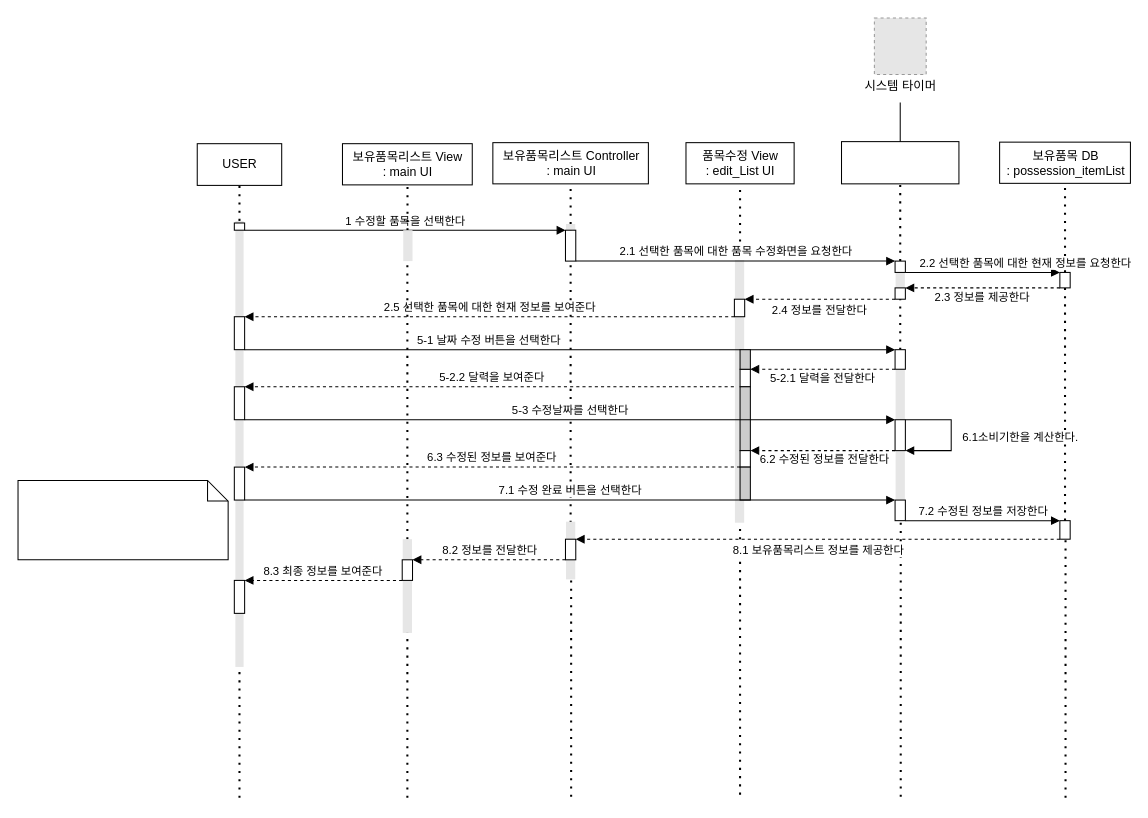
The diagram is 1148 pixels wide and 818 high, and some of its shapes have lost their labels. Grey dashed boxes stand in for pictures. The shapes that lost their labels are listed below. From the top down, each one's box as (x1, y1, x2, y2) in pixels, then its label:
(840, 141, 959, 184): 품목수정 Controller : edit_List UI
(17, 479, 228, 560): 7A. 사용자가 취소버튼을 누를 경우, 시스템이 '수정을 취소하시겠습니까?' 라는 팝업창을 보여준다
